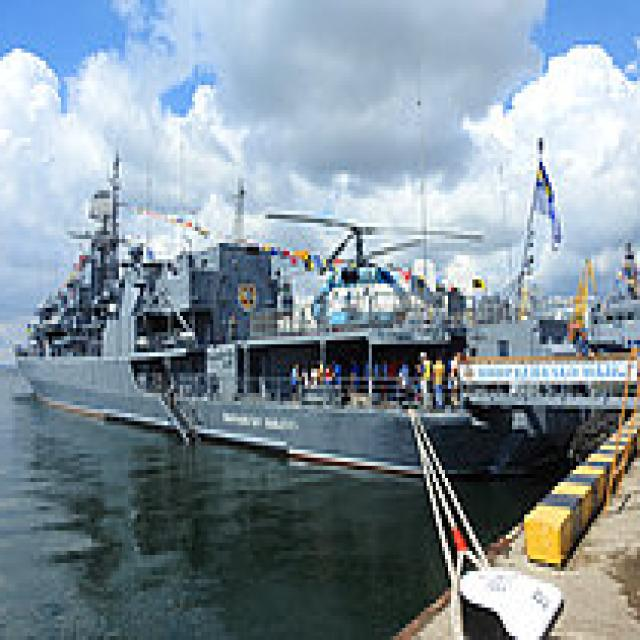Warship: (12, 146, 503, 478)
